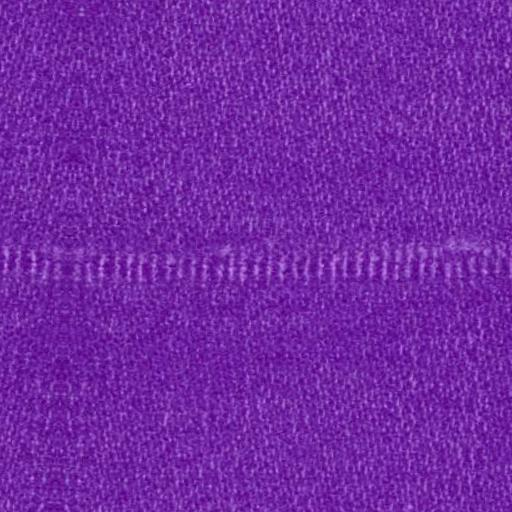slub: (2, 236, 510, 300)
